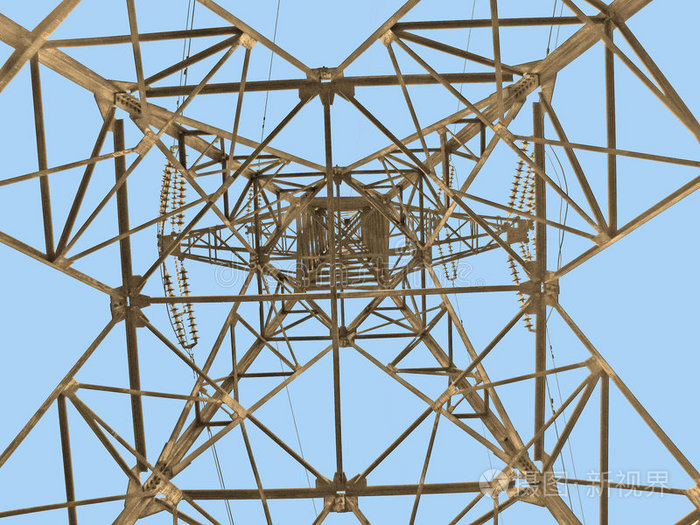insulator: (163, 265, 200, 344), (505, 142, 536, 213), (504, 255, 533, 328), (156, 166, 187, 226)
